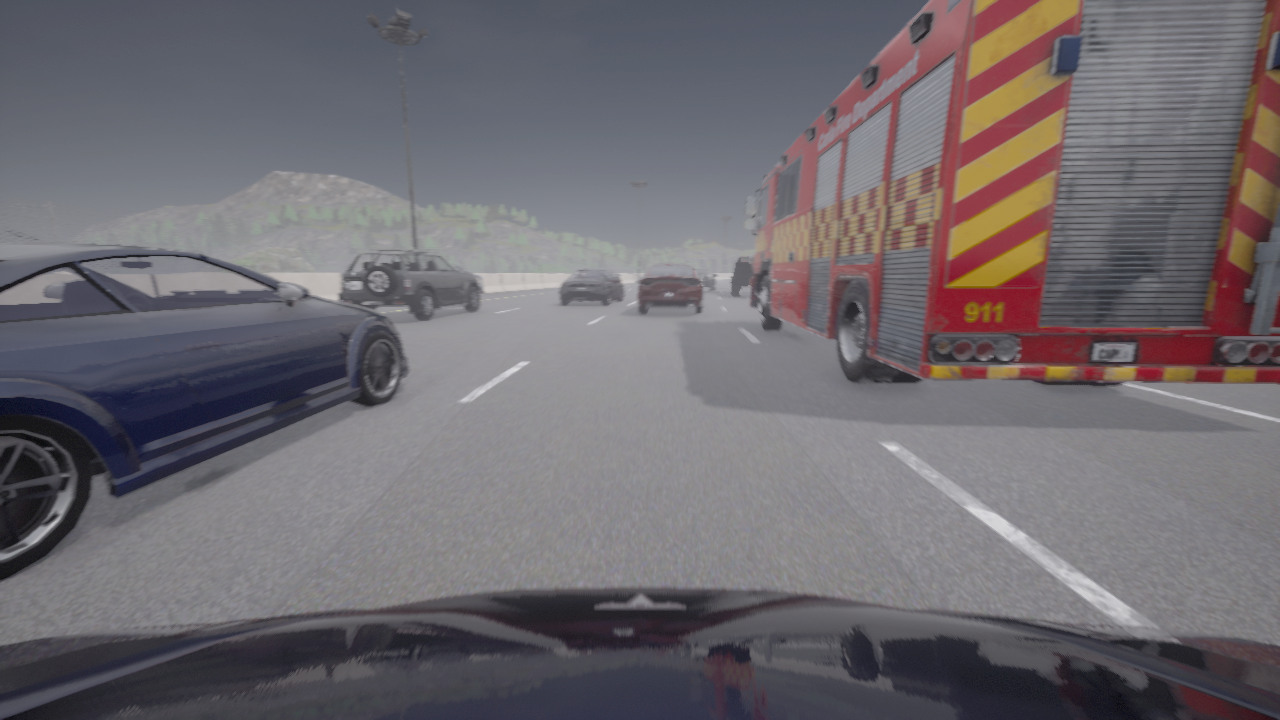cyclist: (743, 0, 1279, 386), (0, 588, 1279, 719), (337, 249, 482, 320), (638, 263, 704, 313), (558, 269, 623, 304), (731, 257, 753, 296), (695, 269, 715, 291), (604, 269, 619, 281)
